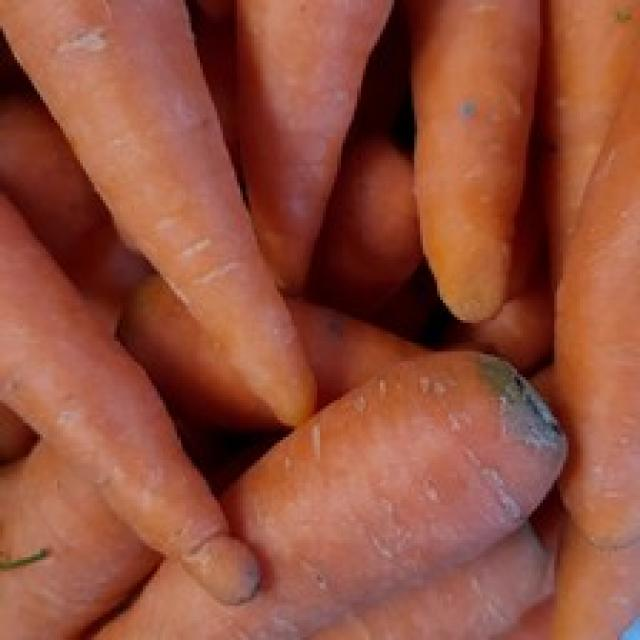Fresh_Carrot: (3, 3, 311, 411)
